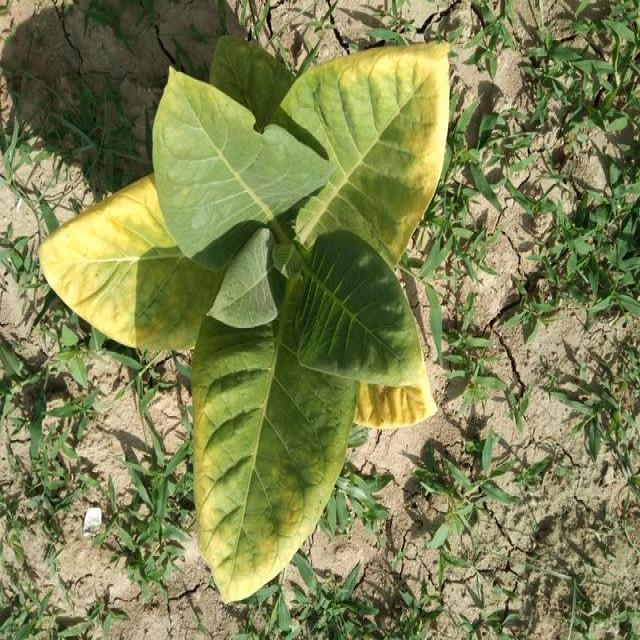crop: (41, 41, 463, 584)
